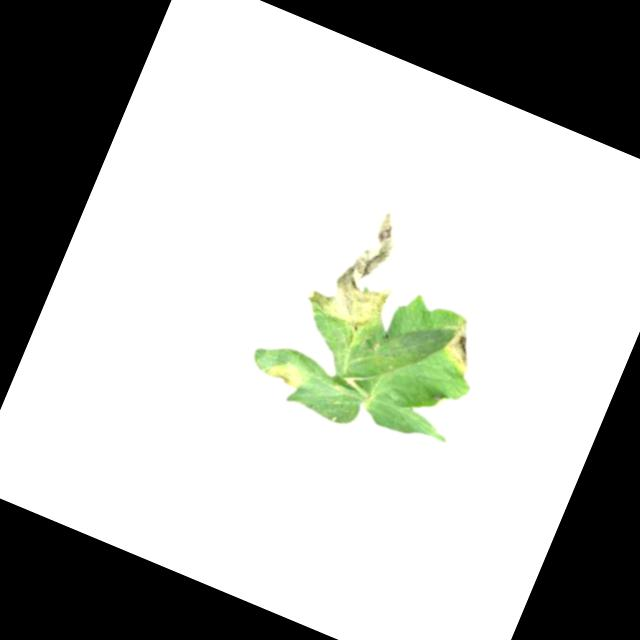Late_blight: (300, 193, 423, 342), (436, 312, 487, 372), (258, 353, 314, 399)
